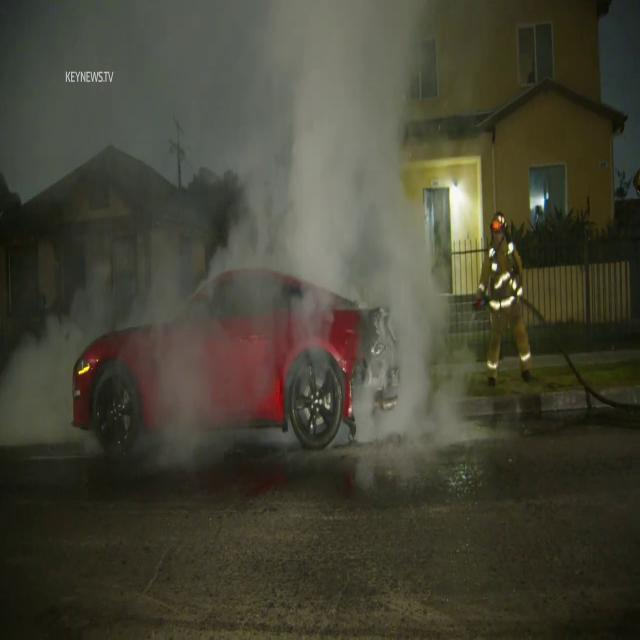Smoke: (97, 2, 470, 471), (0, 308, 81, 458)
